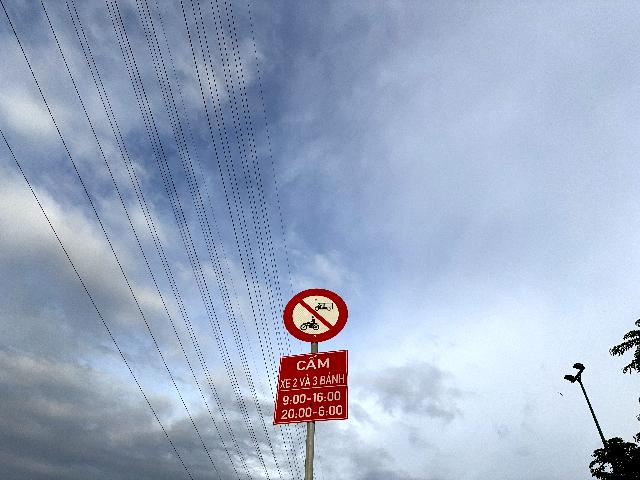cam-xe-2-banh-3-banh: (283, 288, 348, 342)
